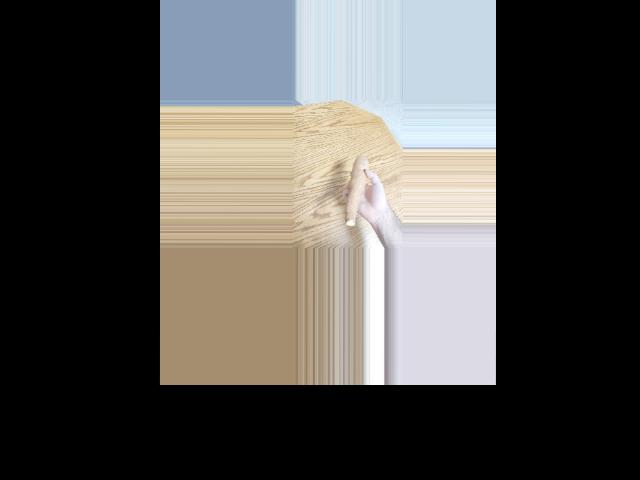sweet_potato: (344, 151, 366, 223)
